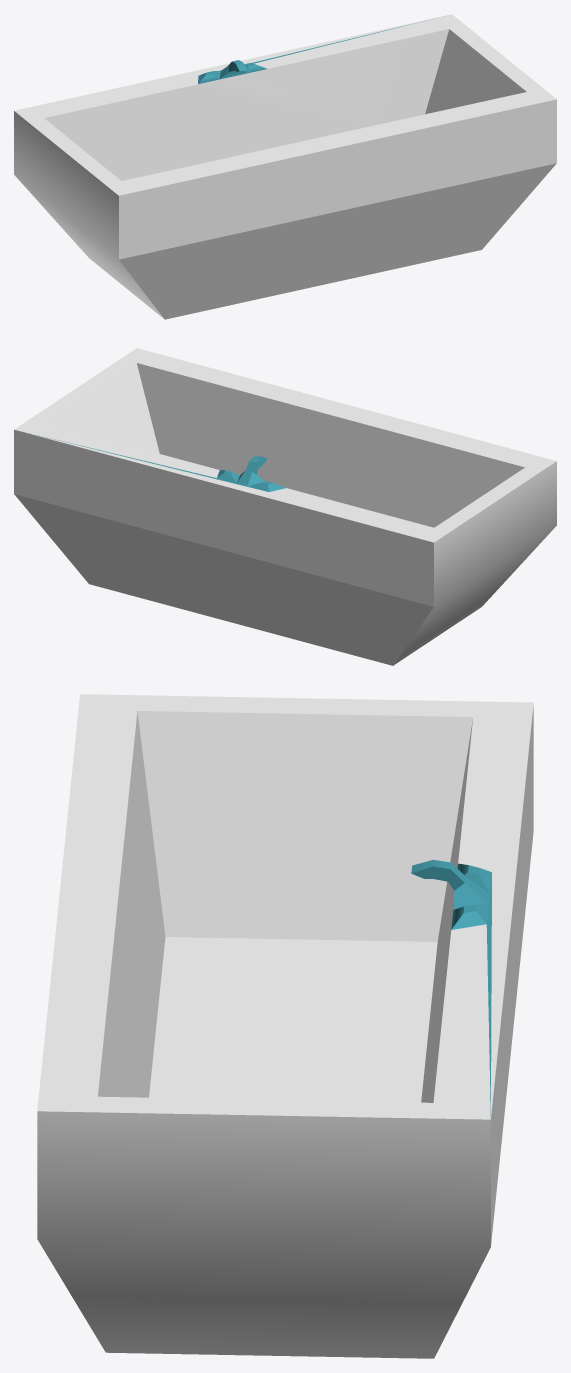
File: bath_tube.fbx
3 renders of one model, top to bottom at view 1: azimuth 30°, elevation 25°; view 2: azimuth 150°, elevation 25°; view 3: azimuth 270°, elevation 25°, orthographic. The views are drawn at different scales.
Visible parts, largest first — view 1: bath_tube; view 2: bath_tube; view 3: bath_tube.
Boxes of the visible parts, x1=… form: bath_tube: x1=14, y1=14, x2=556, y2=319; bath_tube: x1=14, y1=348, x2=556, y2=665; bath_tube: x1=37, y1=694, x2=533, y2=1358.
Size of the model in its own units: 245 by 89.54 by 121.
